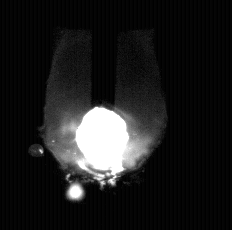arame: (91, 0, 117, 111)
poca: (43, 0, 169, 230)
